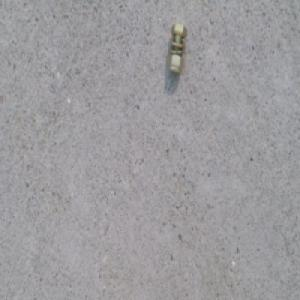BoltNutSet: (164, 23, 188, 73)
